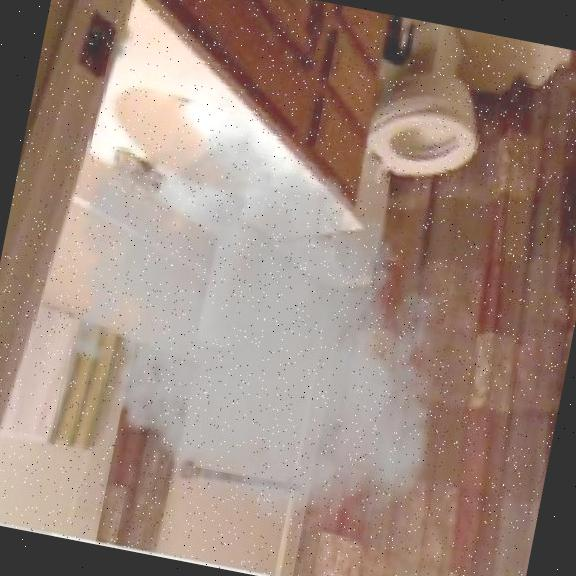smoke: (32, 126, 525, 551)
